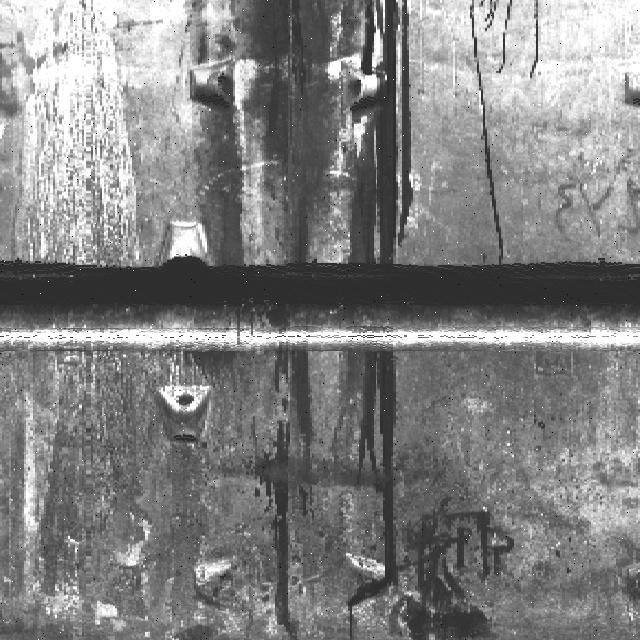leakage: (162, 1, 432, 277), (222, 351, 408, 636)
